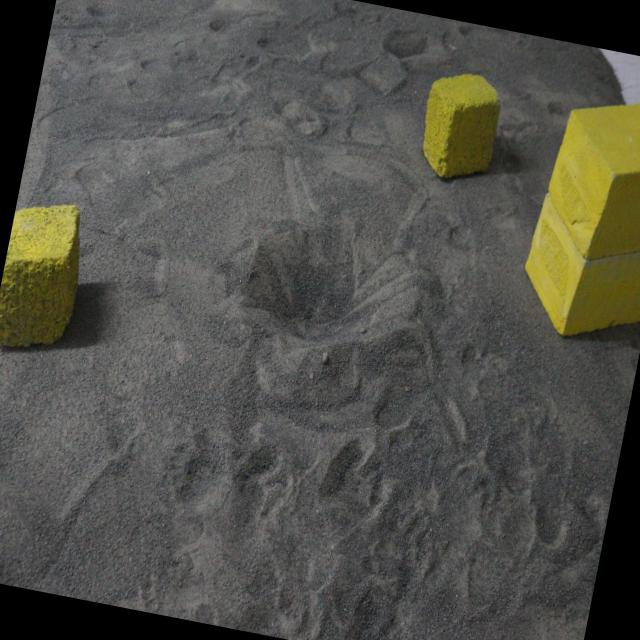box: (521, 85, 640, 347), (0, 189, 99, 368), (410, 67, 510, 195)
crater: (220, 207, 431, 386)
